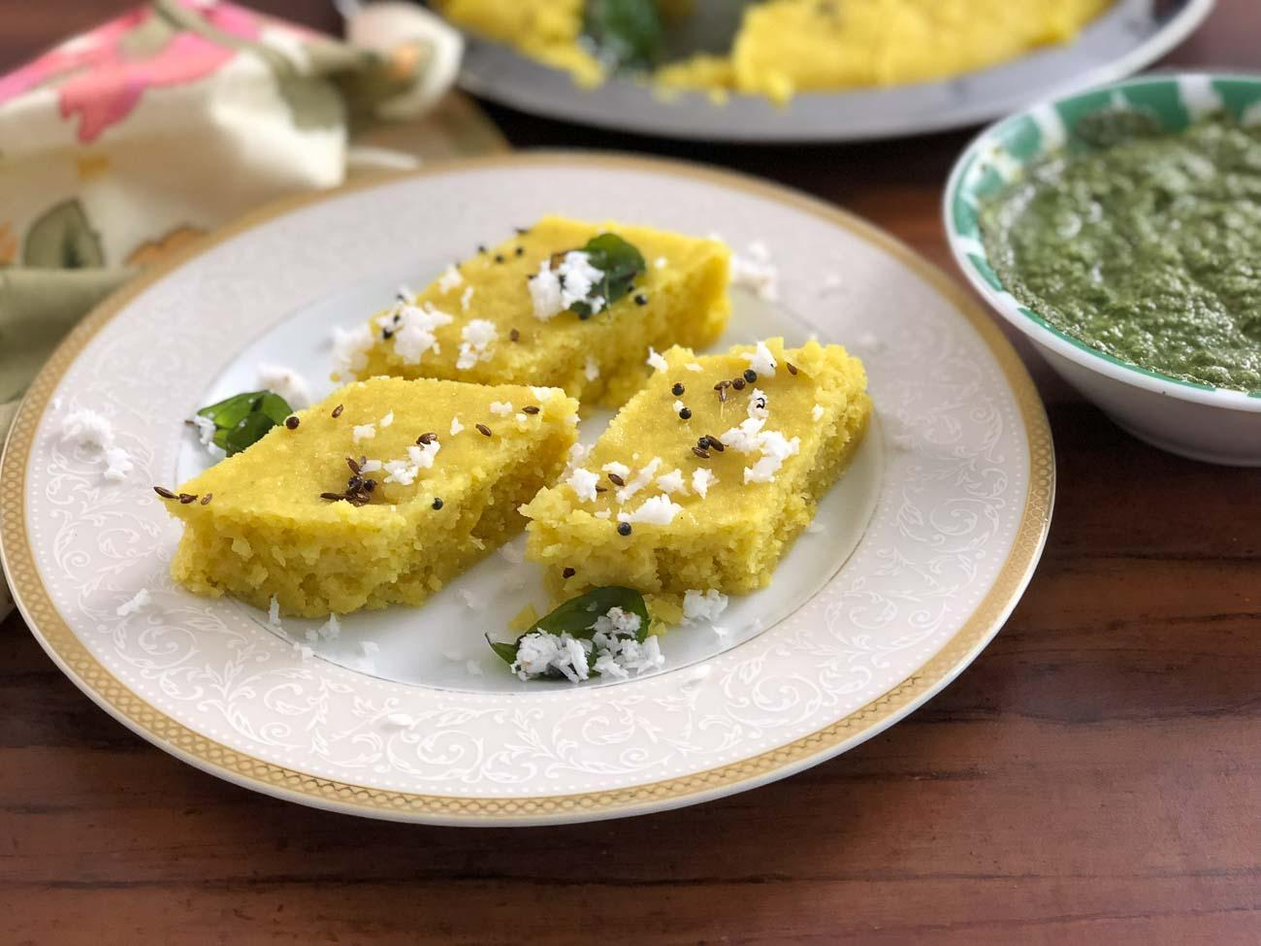dhokla: (218, 234, 861, 645)
